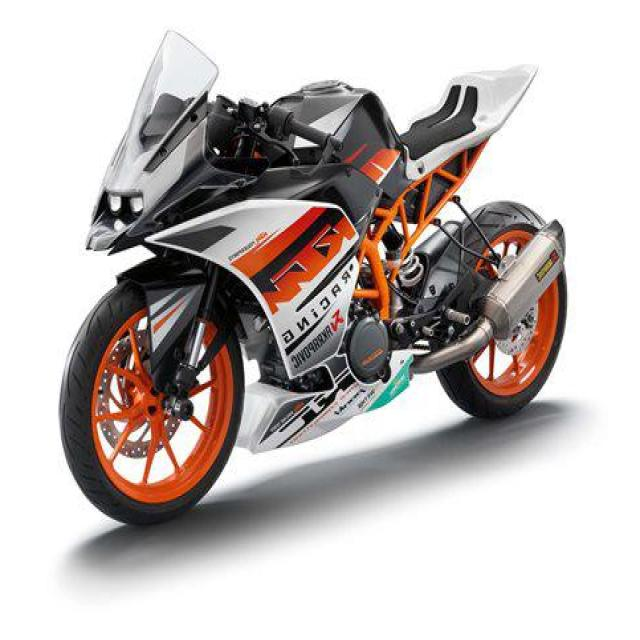motorcycle: (60, 33, 565, 523)
